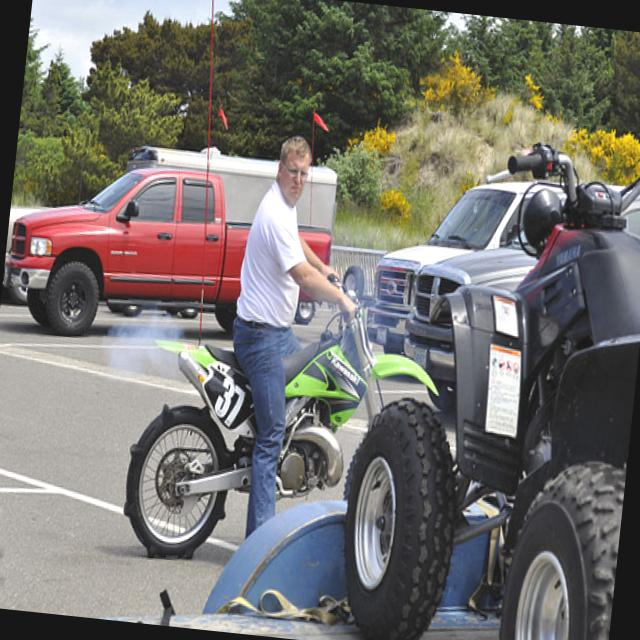Vehicle: (332, 125, 640, 640), (110, 246, 455, 600), (0, 150, 336, 361), (398, 166, 640, 391), (365, 162, 566, 370), (0, 165, 57, 306)
